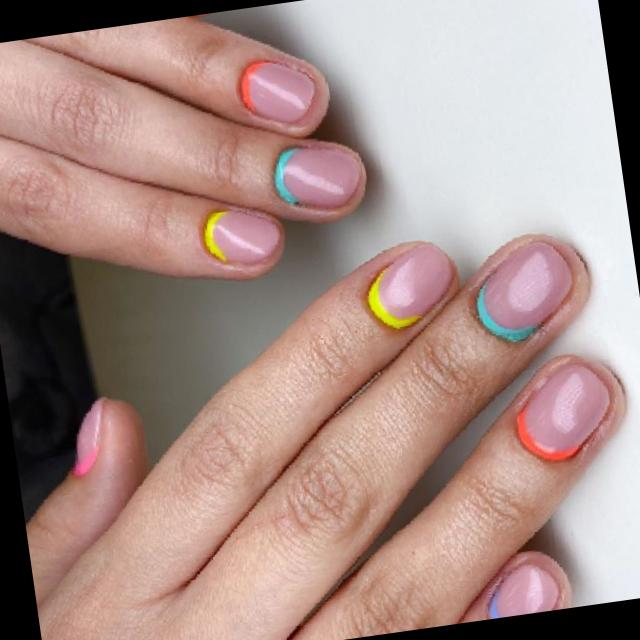Nail: (476, 240, 572, 341), (518, 363, 610, 460), (367, 242, 453, 328), (274, 144, 362, 208), (241, 60, 315, 123), (203, 208, 281, 263), (489, 563, 558, 619), (72, 398, 104, 477)
